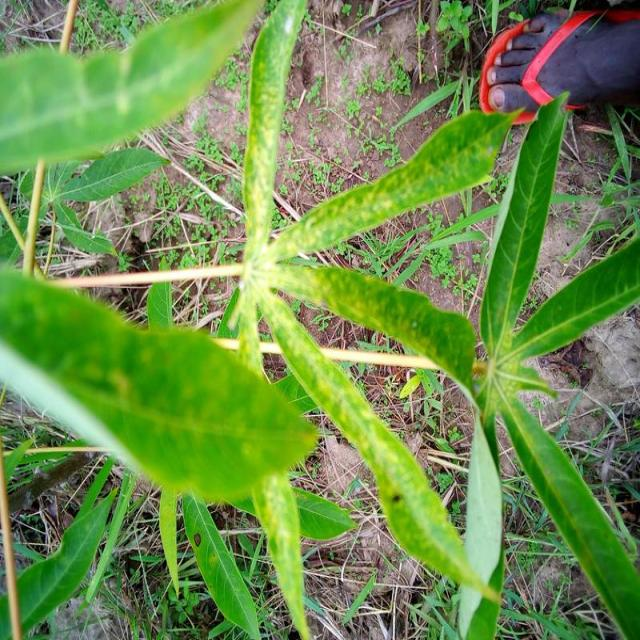cassava leaf: (0, 1, 638, 638), (0, 263, 319, 508), (0, 0, 266, 176)
